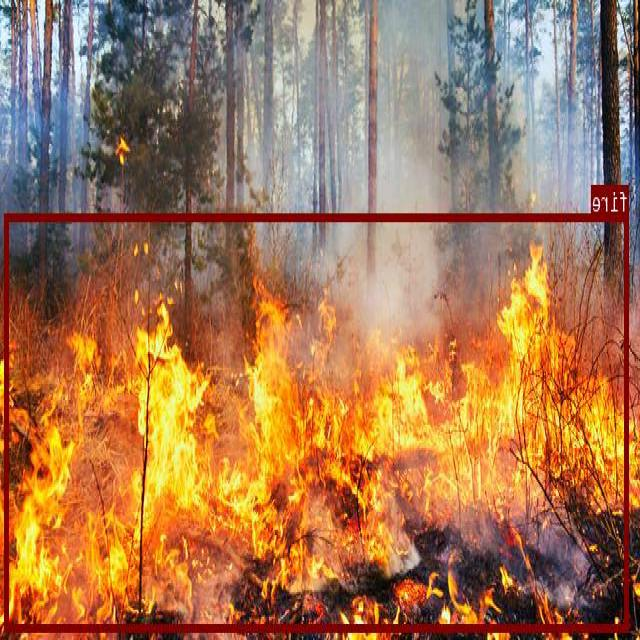fire: (6, 213, 629, 630)
